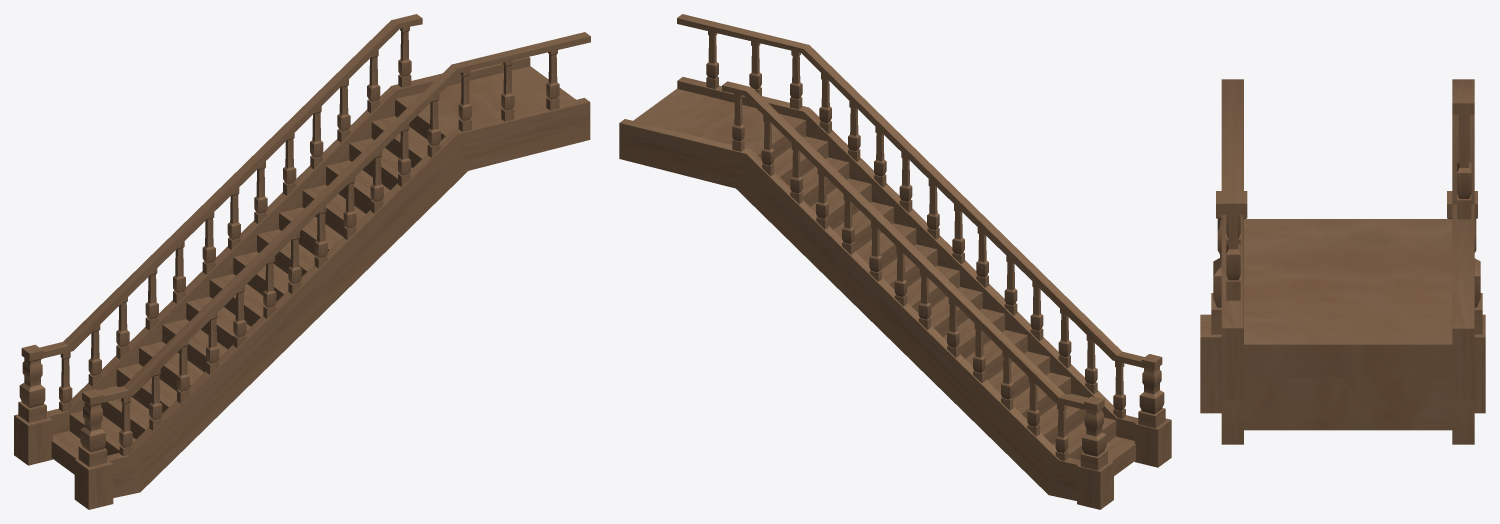
The model's file is long stair.fbx.
3 renders of one model, left to right at view 1: azimuth 30°, elevation 25°; view 2: azimuth 150°, elevation 25°; view 3: azimuth 270°, elevation 25°, orthographic. The views are drawn at different scales.
Visible parts, largest first — view 1: polySurface554; view 2: polySurface554; view 3: polySurface554.
Part boxes in pixels (x1,y1,x2,y2): polySurface554: (14,14,590,509); polySurface554: (619,14,1171,509); polySurface554: (1200,79,1485,444).
Size of the model in its own units: 700 by 456 by 178.
Materials: 1 (1 with a texture image).
